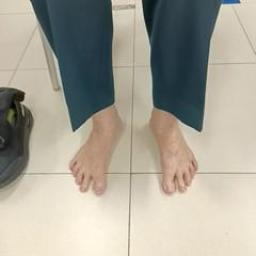Dorsal View -Both Feet-: (56, 86, 206, 212)
